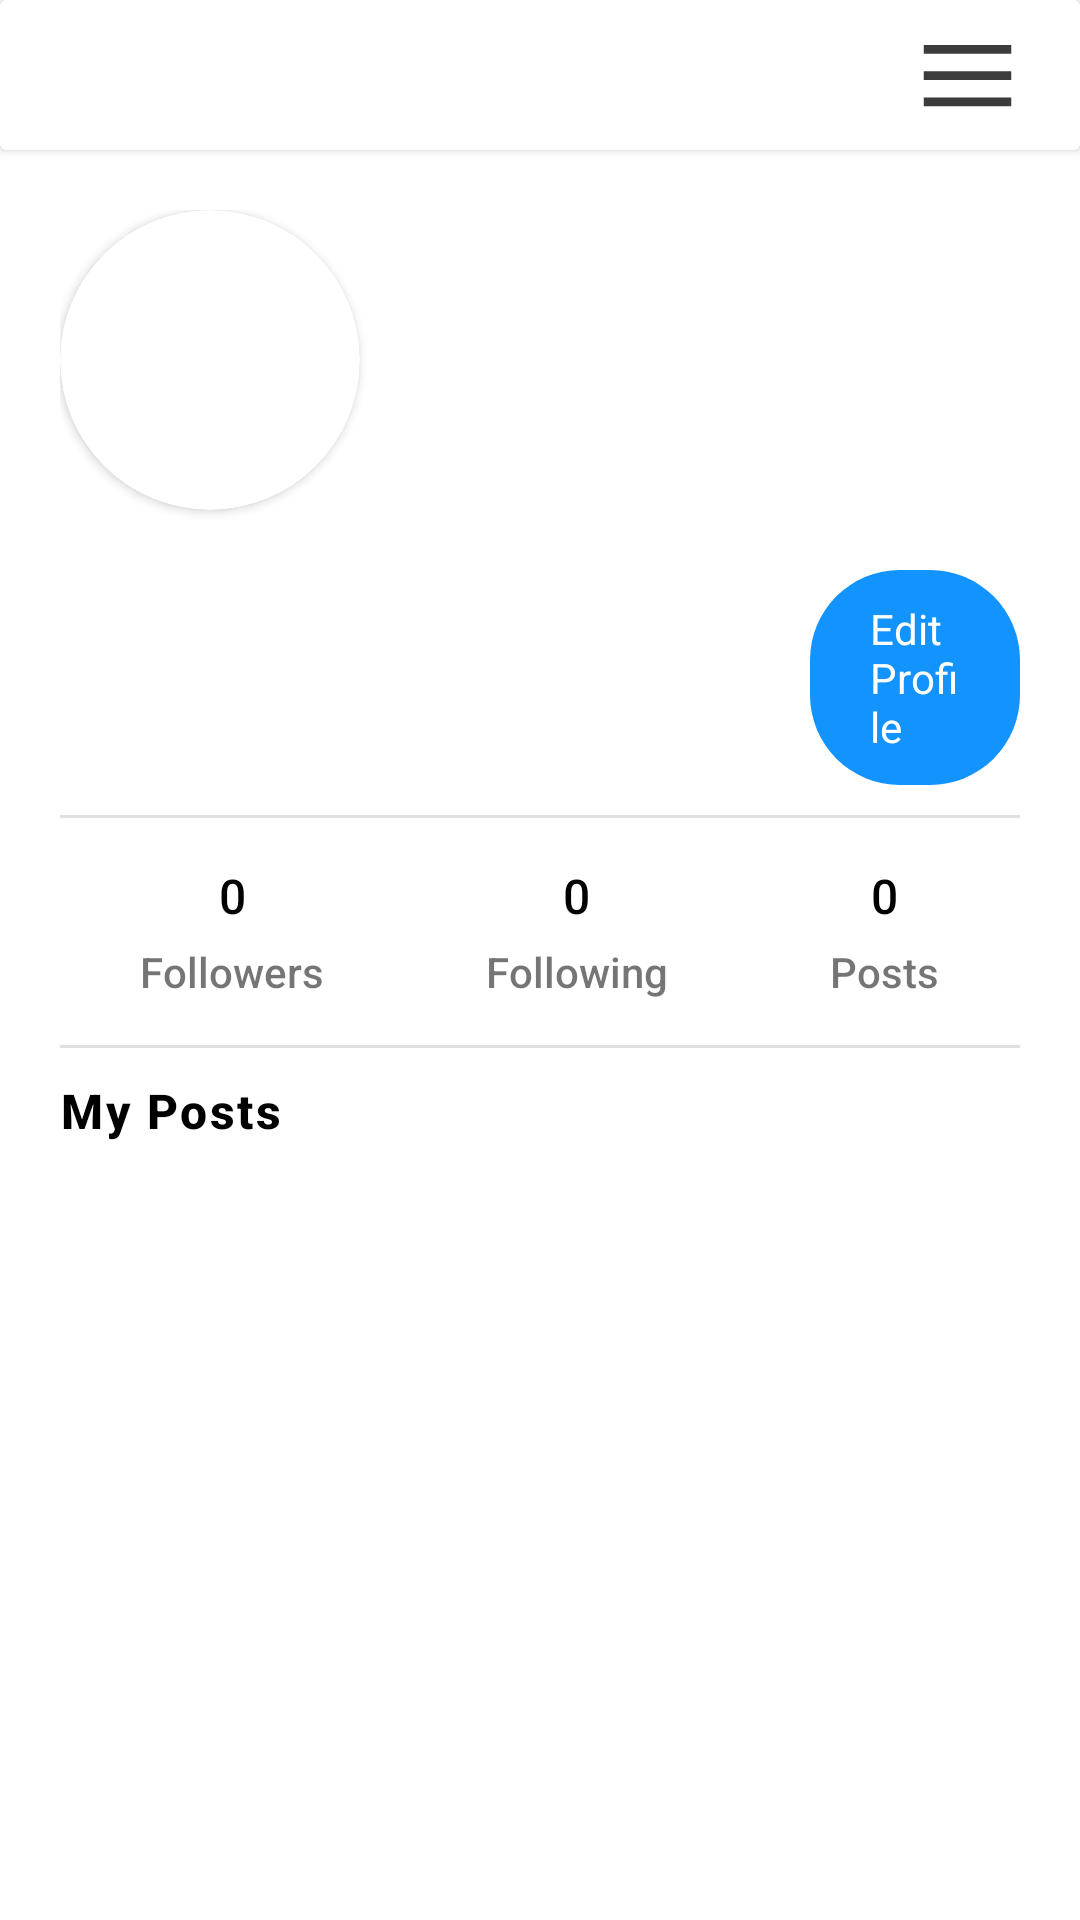

Icons on this 1080x1920 Android screen, each with its box as bbox=[x1, y1, x2, y2]:
hamburger menu: bbox=[923, 45, 1012, 107]
